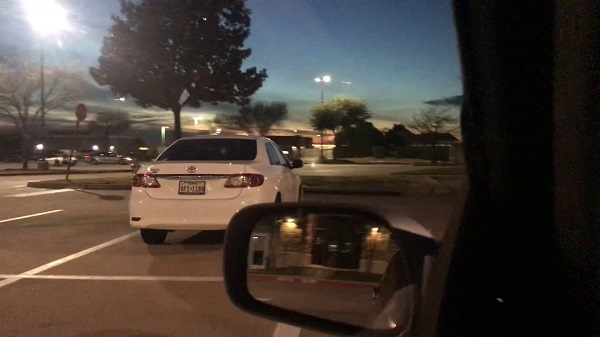car: (130, 132, 304, 244)
